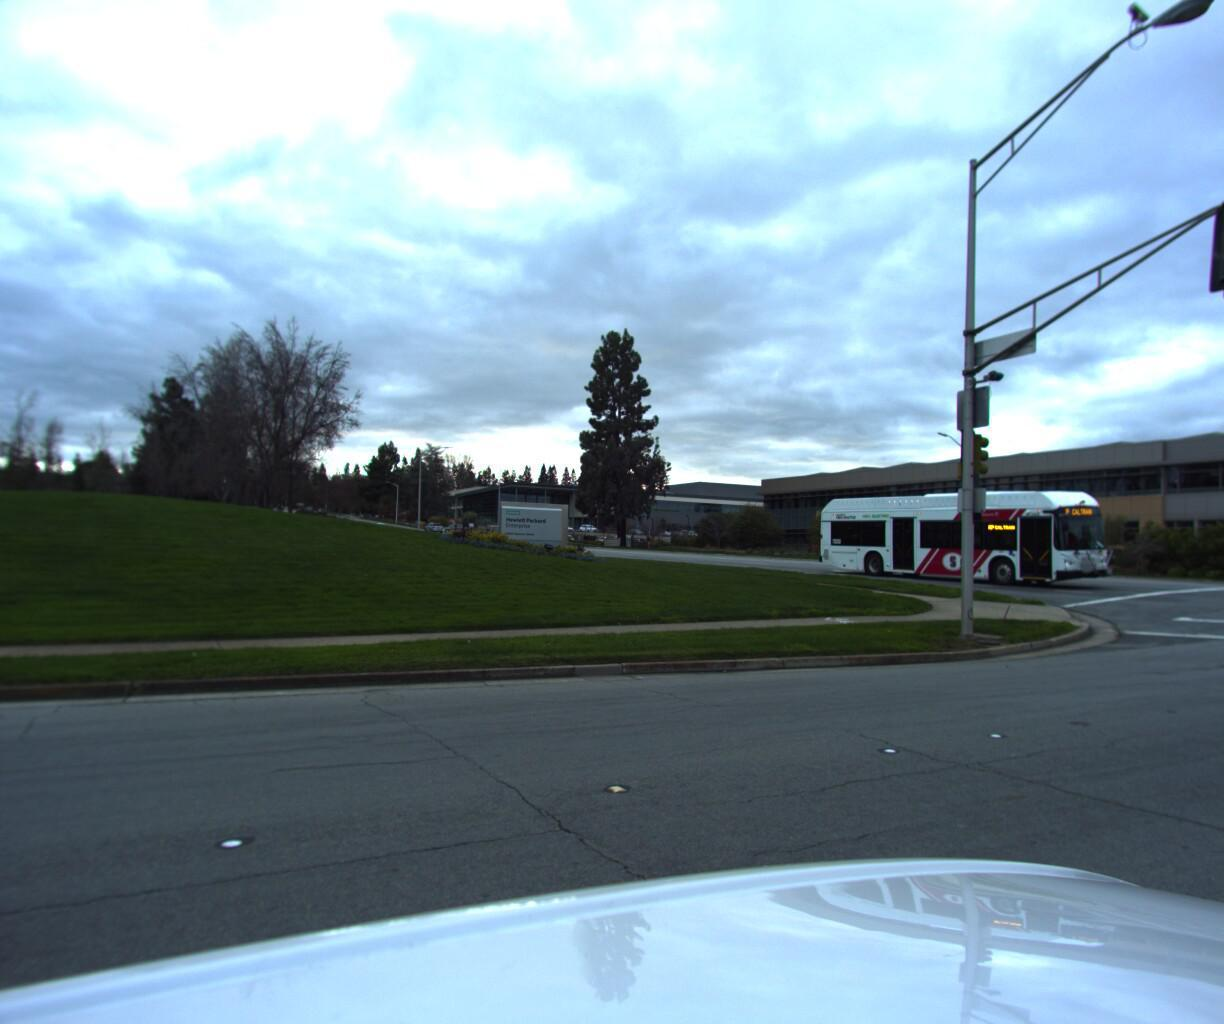bus: (803, 479, 1129, 585)
